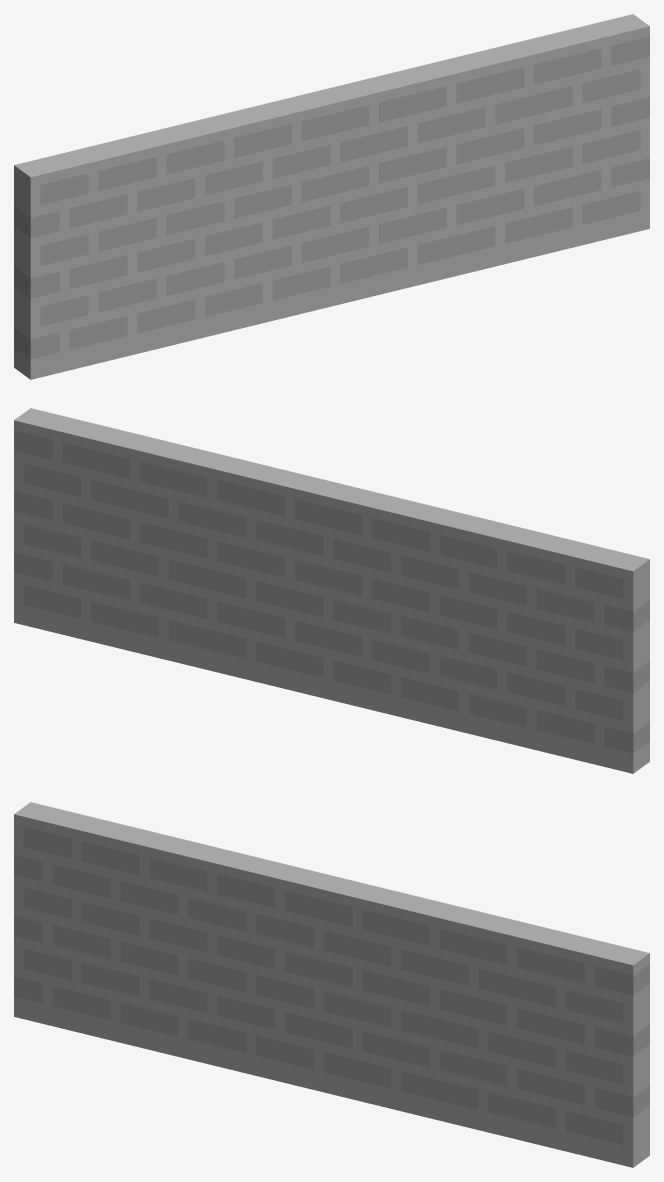
Rendered from Wall.obj.
The picture shows the model from 3 angles, top to bottom: view 1: azimuth 30°, elevation 25°; view 2: azimuth 150°, elevation 25°; view 3: azimuth 330°, elevation 25°; orthographic projection.
Bounding box in the file's own units: 64 × 20 × 3.
Materials: 1 (1 with a texture image).
